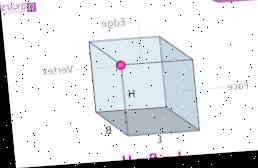cube: (86, 35, 198, 139)
